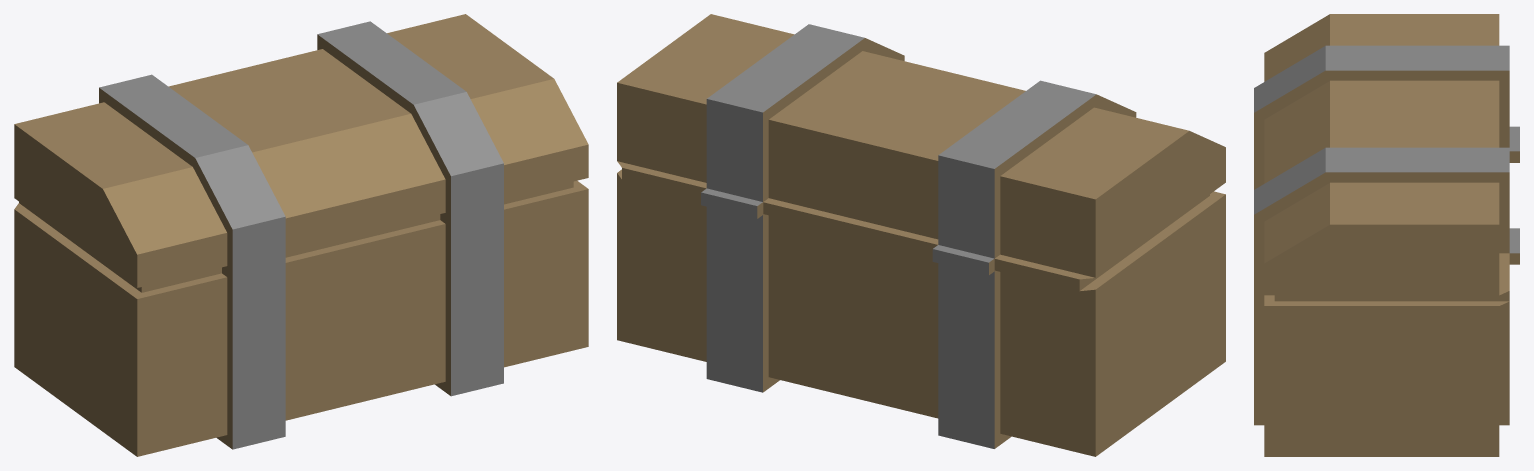
The model's file is chest.fbx.
3 views of the same model, side by side, from view 1: azimuth 30°, elevation 25°; view 2: azimuth 150°, elevation 25°; view 3: azimuth 270°, elevation 25° (orthographic). The views are drawn at different scales.
Visible parts, largest first — view 1: chest4; view 2: chest4; view 3: chest4.
Boxes of the visible parts, left/top/right/bottom form: chest4: left=14, top=14, right=588, bottom=456; chest4: left=617, top=14, right=1225, bottom=456; chest4: left=1254, top=14, right=1519, bottom=456.
Size of the model in its own units: 5.51 by 3.08 by 2.94.
